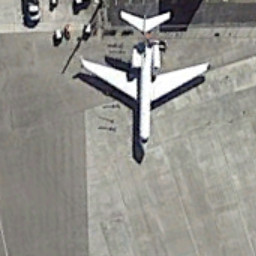Airplane: (69, 4, 219, 167)
